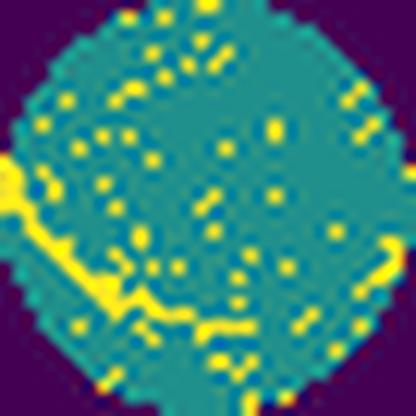Scratch: (0, 151, 260, 352)
